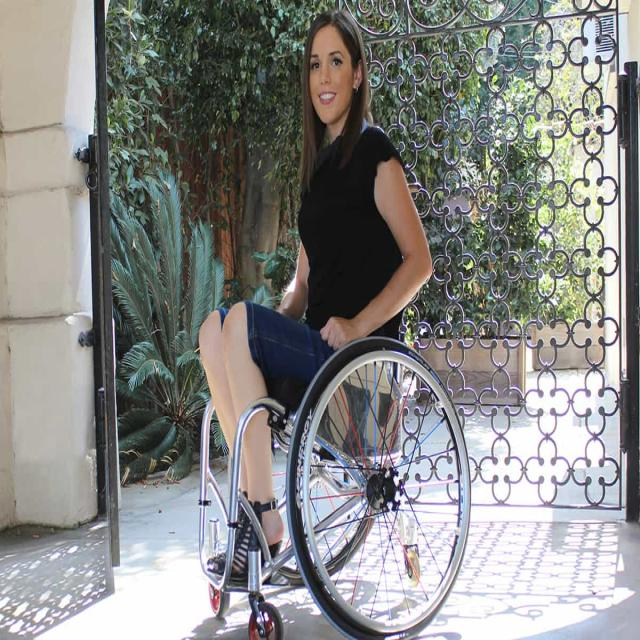wheelchairs: (192, 280, 476, 640)
